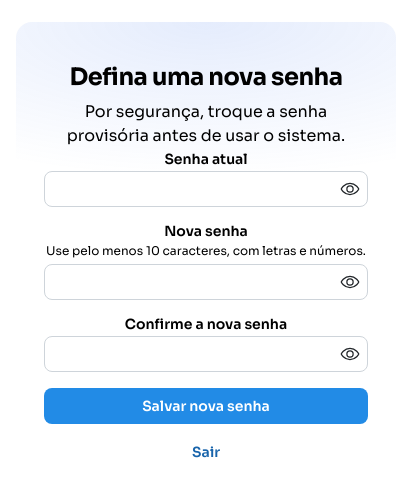
Test: ChangePasswordPage › rejects reusing the current password
Type "Old-Pass-123" into the password field labelled "Senha atual" at [206, 190], box [45, 172, 367, 206]
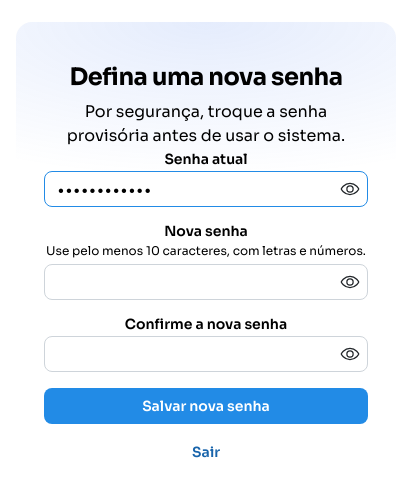
Type "Old-Pass-123" into the password field labelled "Nova senha" at [206, 282], box [45, 265, 367, 299]
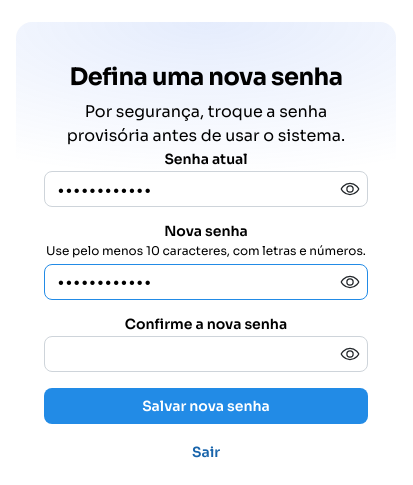
Type "Old-Pass-123" into the password field labelled "Confirme a nova senha" at [206, 354], box [45, 338, 367, 372]
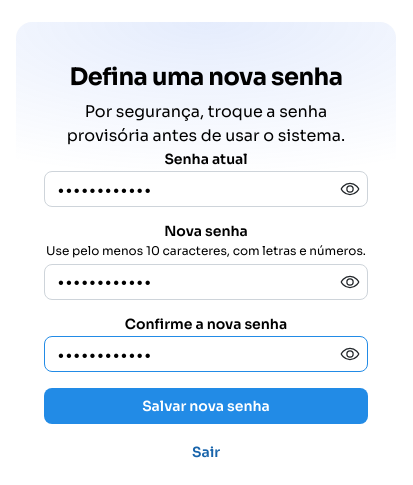
Click the button "Salvar nova senha" at [206, 406], box [44, 388, 368, 424]
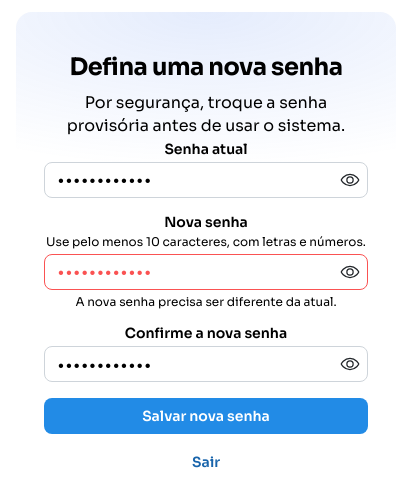
Now the text "A nova senha precisa ser diferente da atual." is shown, box [75, 294, 337, 309]
